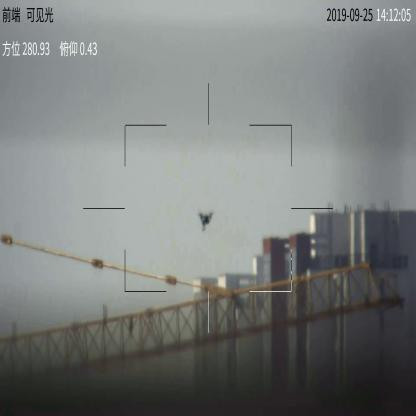uav: (197, 210, 215, 233)
